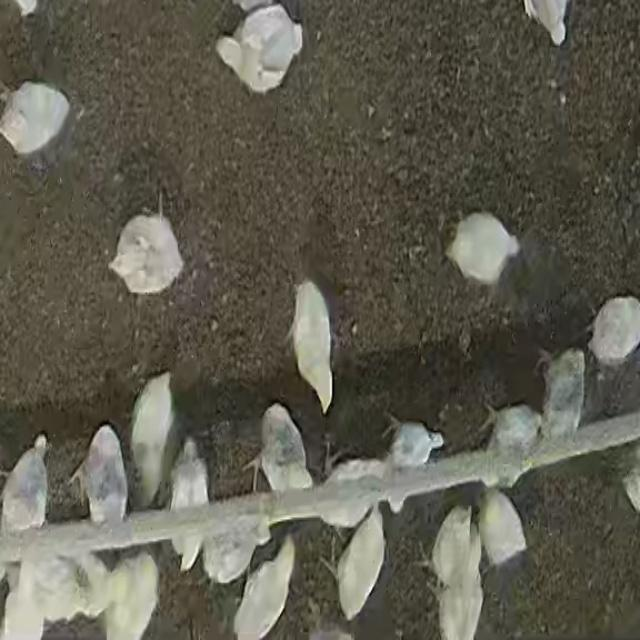chicken: (217, 3, 303, 94), (109, 210, 188, 298), (231, 535, 296, 639), (128, 370, 178, 504), (290, 274, 335, 414), (337, 505, 389, 621), (76, 424, 130, 530), (168, 434, 210, 570), (446, 212, 520, 288), (101, 550, 163, 640), (1, 80, 71, 157), (0, 433, 50, 539), (438, 536, 487, 638), (258, 403, 310, 498), (535, 350, 586, 442), (420, 501, 471, 585), (481, 488, 528, 570), (587, 294, 640, 364), (478, 404, 544, 455), (386, 418, 445, 471)
